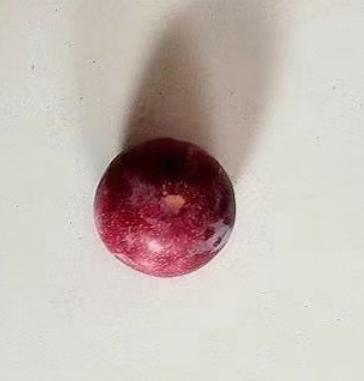plum_B: (92, 137, 237, 277)
